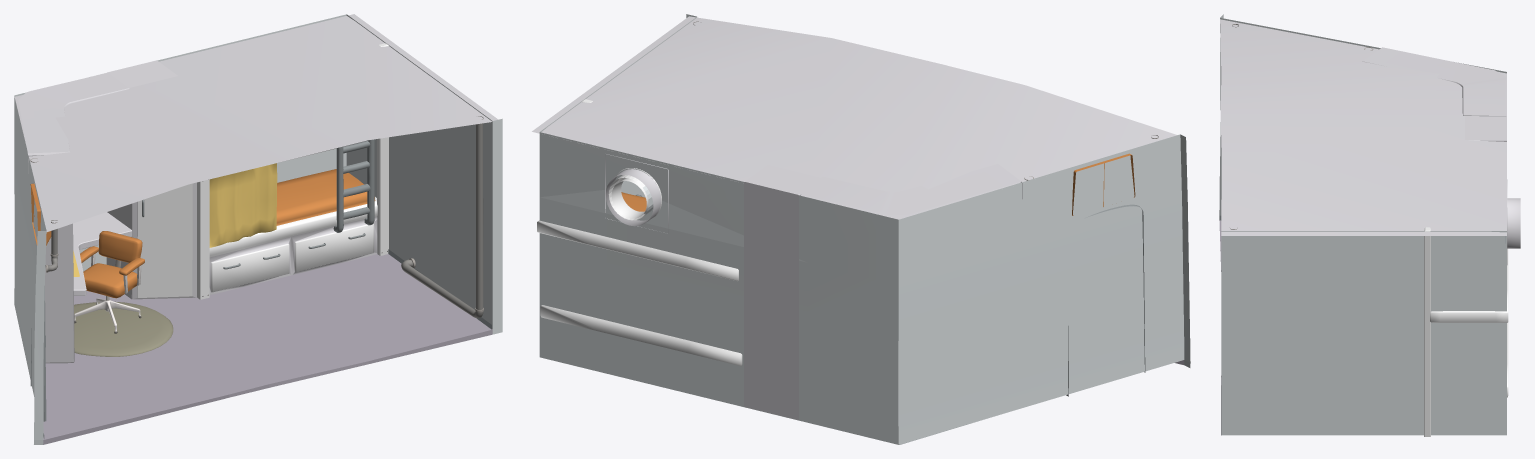
File: CabinRoom00.fbx
3 renders of one model, left to right at view 1: azimuth 30°, elevation 25°; view 2: azimuth 150°, elevation 25°; view 3: azimuth 270°, elevation 25°, orthographic. The views are drawn at different scales.
Visible parts, largest first — view 1: cabinRoomWalls, CabinDesk, cabinBunk, lowerBunkCurtain, CircleRug, cabinChair, cabinPipe02, bunkLadder; view 2: cabinRoomWalls, CabinDesk, cabinBunk, cabinPortholeWindow; view 3: cabinRoomWalls, CabinDesk, cabinBunk, cabinPortholeWindow.
Boxes of the visible parts, <box> form: cabinRoomWalls: <box>14,14,502,444</box>; CabinDesk: <box>18,60,196,363</box>; cabinBunk: <box>197,43,388,299</box>; lowerBunkCurtain: <box>209,163,277,247</box>; CircleRug: <box>74,301,173,356</box>; cabinChair: <box>74,231,144,333</box>; cabinPipe02: <box>401,116,483,318</box>; bunkLadder: <box>333,139,374,232</box>; cabinRoomWalls: <box>532,14,1190,444</box>; CabinDesk: <box>744,164,1022,419</box>; cabinBunk: <box>537,99,742,366</box>; cabinPortholeWindow: <box>605,154,668,233</box>; cabinRoomWalls: <box>1219,14,1506,435</box>; CabinDesk: <box>1362,47,1506,141</box>; cabinBunk: <box>1424,227,1508,436</box>; cabinPortholeWindow: <box>1507,179,1520,264</box>.
Bounding box in the file's own units: 5161 × 2367 × 2937.
